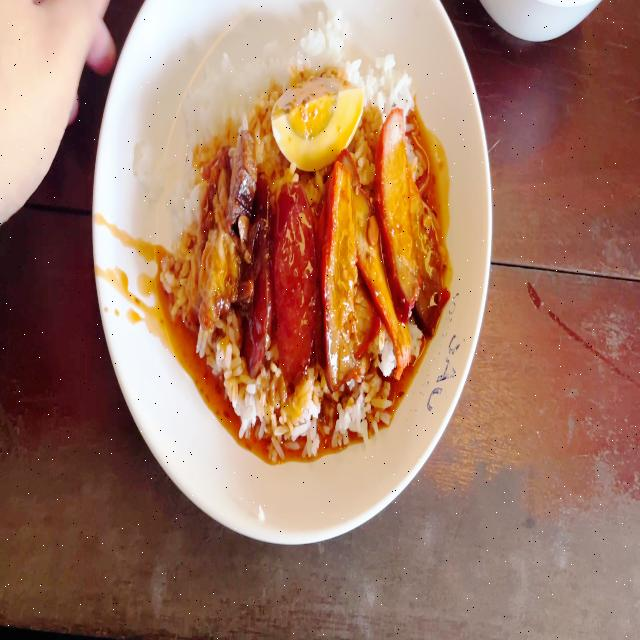boiled_egg: (281, 80, 363, 159)
chainese_sausage: (253, 186, 311, 366)
crispy_pork: (200, 127, 252, 344)
red_pork: (333, 131, 422, 380)
red_pork_and_crispy_pork: (179, 38, 431, 435)
rice: (192, 43, 275, 144), (168, 159, 202, 345)
